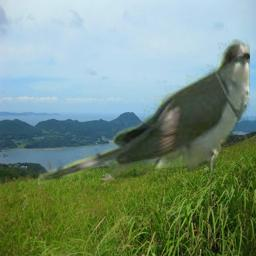Cuckoo: (37, 39, 250, 186)
